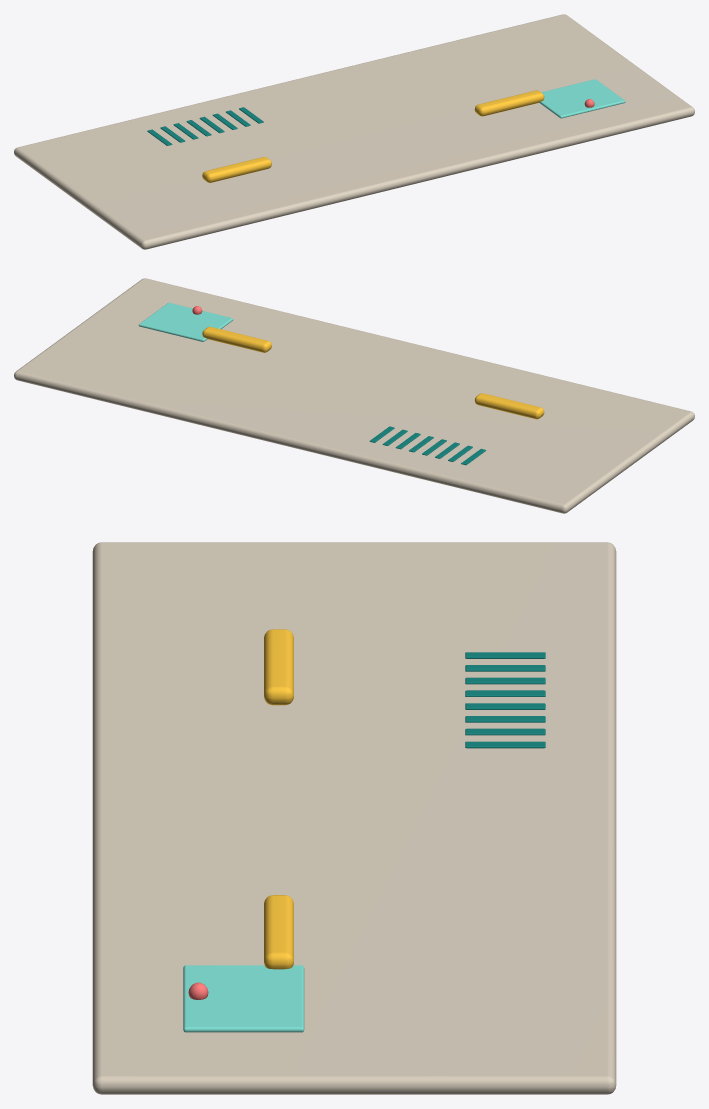
The model's file is TankLidLarge.fbx.
3 views of the same model, one above another, from view 1: azimuth 30°, elevation 25°; view 2: azimuth 150°, elevation 25°; view 3: azimuth 270°, elevation 25° (orthographic). The views are drawn at different scales.
Parts seen in each view (by area): view 1: TankLidLarge mesh; view 2: TankLidLarge mesh; view 3: TankLidLarge mesh.
Part boxes in pixels (<box>): TankLidLarge mesh: <box>14,14,694,249</box>; TankLidLarge mesh: <box>14,278,694,513</box>; TankLidLarge mesh: <box>92,542,616,1094</box>.
Size of the model in its own units: 2.54 by 0.08 by 1.04.
